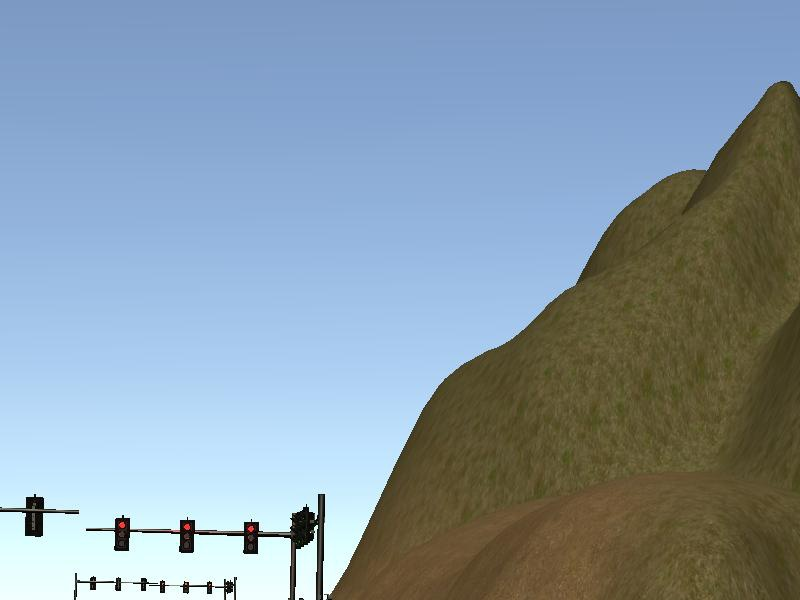Red: (113, 515, 131, 552), (177, 517, 195, 554), (241, 520, 259, 557)
